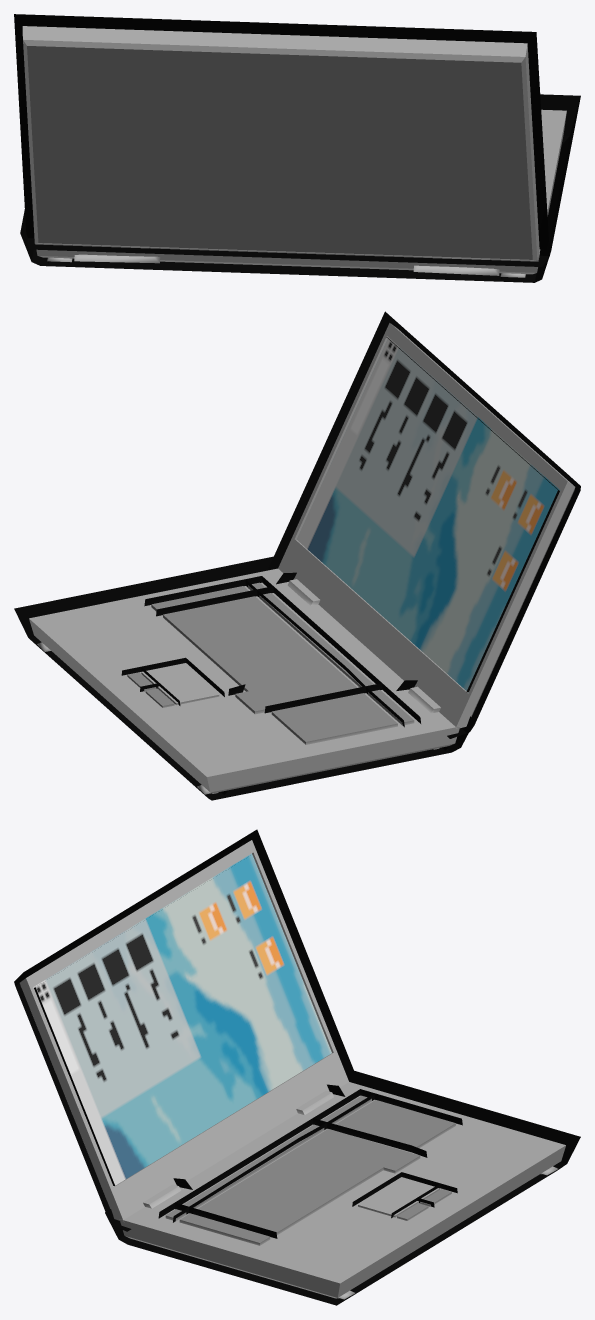
The model's file is LaptopMesh.glb.
3 views of the same model, one above another, from view 1: azimuth 30°, elevation 25°; view 2: azimuth 150°, elevation 25°; view 3: azimuth 270°, elevation 25° (orthographic). The views are drawn at different scales.
Parts seen in each view (by area): view 1: Laptop-col; view 2: Laptop-col; view 3: Laptop-col.
Part boxes in pixels (x1,y1,x2,y2): Laptop-col: (14,14,580,282); Laptop-col: (14,311,580,800); Laptop-col: (14,829,580,1305).
Bounding box in the file's own units: 0.6673 × 0.3235 × 0.6658.
3 materials, 2 textured.
